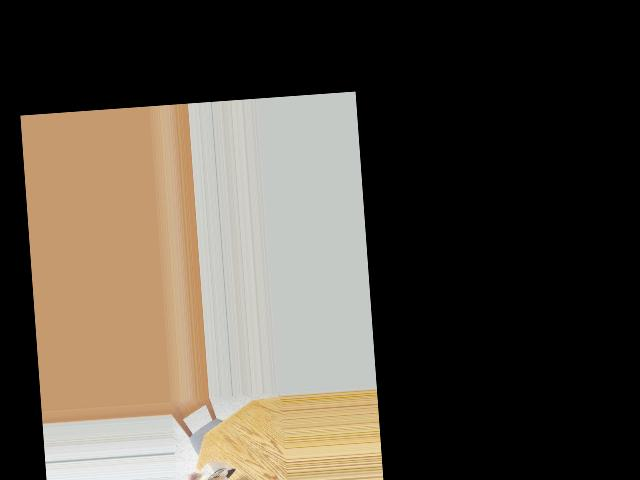cheese: (188, 451, 235, 480)
